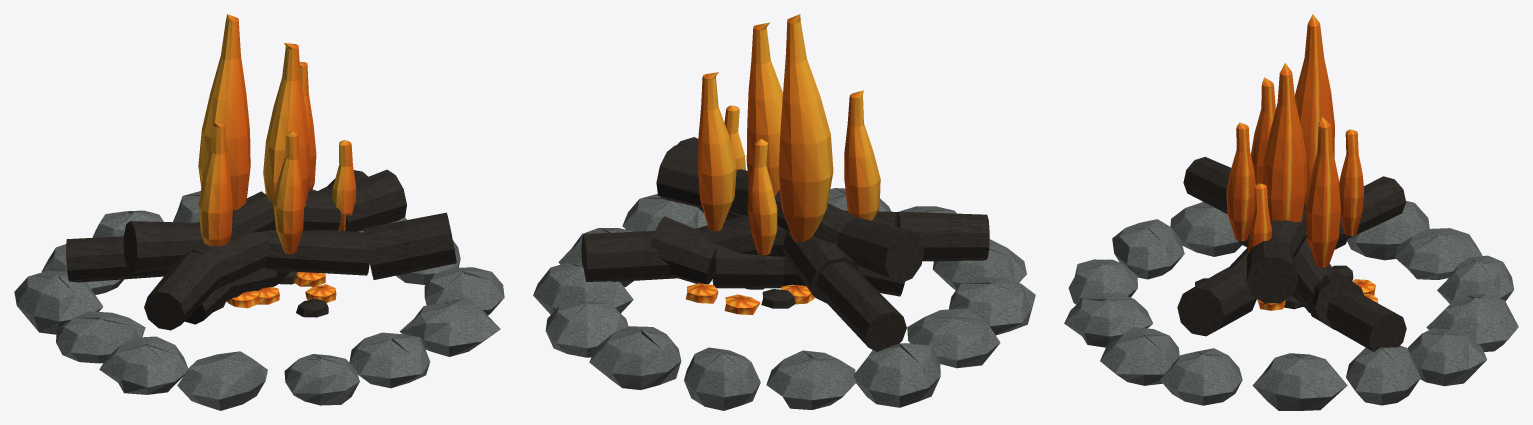
Rendered from cs-009_campfire_strong_flame.obj.
3 views of the same model, side by side, from view 1: azimuth 30°, elevation 25°; view 2: azimuth 150°, elevation 25°; view 3: azimuth 270°, elevation 25° (orthographic). The views are drawn at different scales.
Visible parts, largest first — view 1: cs-009_campfire_strong_flame; view 2: cs-009_campfire_strong_flame; view 3: cs-009_campfire_strong_flame.
Boxes of the visible parts, x1,y1,x2,y2 form: cs-009_campfire_strong_flame: [14, 14, 504, 410]; cs-009_campfire_strong_flame: [533, 14, 1035, 410]; cs-009_campfire_strong_flame: [1064, 14, 1518, 410].
Size of the model in its own units: 0.7218 by 0.5387 by 0.728.
3 materials, 3 textured.
